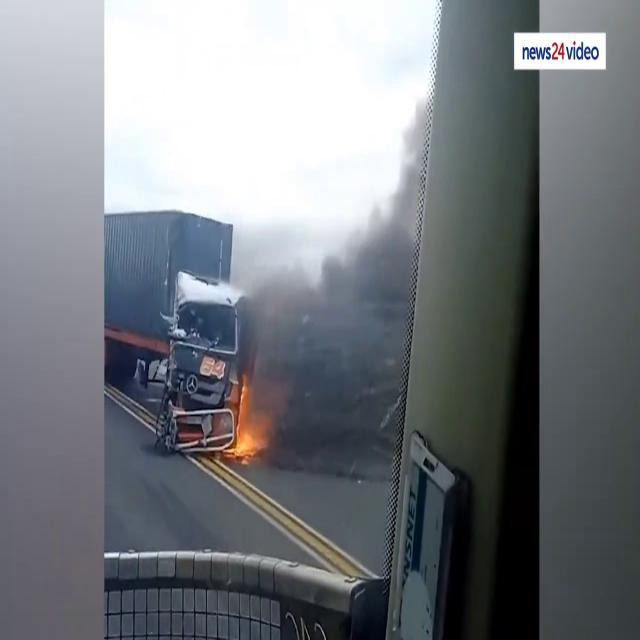Fire: (227, 369, 266, 462)
Smoke: (238, 23, 536, 485)
